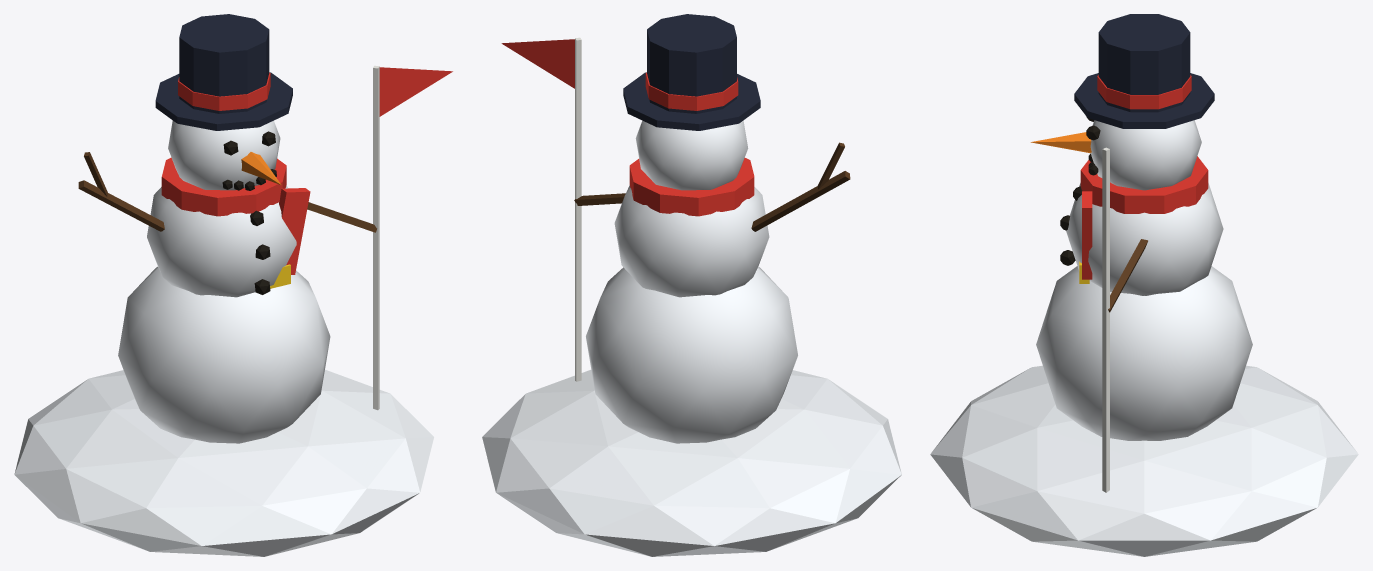
The model's file is snowman.glb.
The picture shows the model from 3 angles, left to right: view 1: azimuth 30°, elevation 25°; view 2: azimuth 150°, elevation 25°; view 3: azimuth 270°, elevation 25°; orthographic projection.
Parts seen in each view (by area): view 1: snowman; view 2: snowman; view 3: snowman.
Boxes of the visible parts, bbox=[...] form: snowman: bbox=[14, 14, 452, 556]; snowman: bbox=[482, 14, 901, 556]; snowman: bbox=[930, 14, 1358, 556].
Bounding box in the file's own units: 3.5 × 4.07 × 3.36.
1 material, 1 textured.
